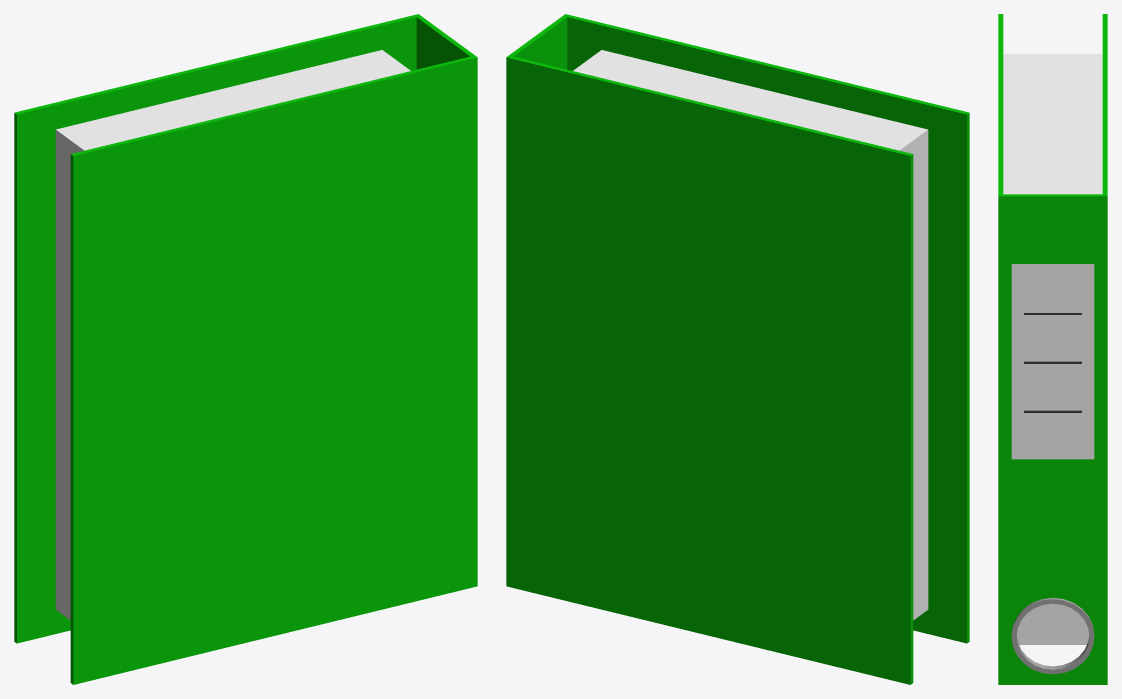
File: map-groen.fbx
The picture shows the model from 3 angles, left to right: view 1: azimuth 30°, elevation 25°; view 2: azimuth 150°, elevation 25°; view 3: azimuth 270°, elevation 25°; orthographic projection. The views are drawn at different scales.
Parts seen in each view (by area): view 1: Model; view 2: Model; view 3: Model.
Part boxes in pixels (bbox=[...]): Model: bbox=[14, 14, 477, 684]; Model: bbox=[506, 14, 969, 684]; Model: bbox=[998, 14, 1107, 684].
Size of the model in its own units: 2620 by 3250 by 660.
